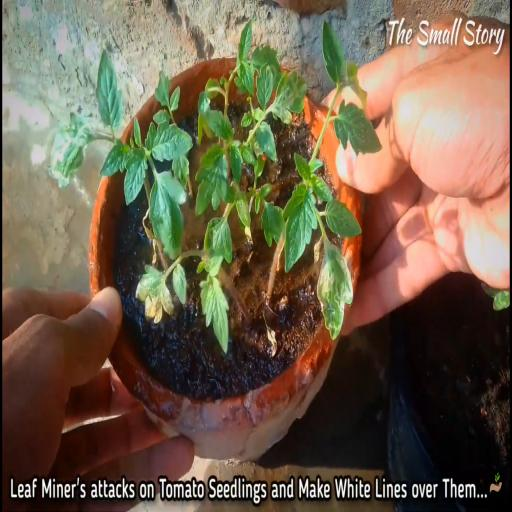Healthy: (281, 183, 318, 275), (334, 96, 383, 156), (95, 49, 124, 132), (152, 120, 193, 162), (324, 198, 362, 241), (123, 145, 148, 207), (322, 18, 345, 84)
Leaf_Miner: (317, 243, 354, 344), (48, 111, 92, 191), (273, 70, 309, 123)
